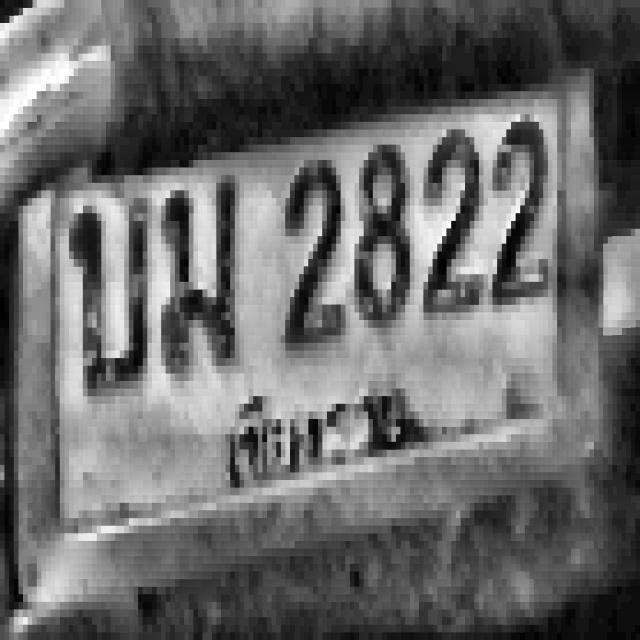license-plate: (11, 51, 602, 614)
